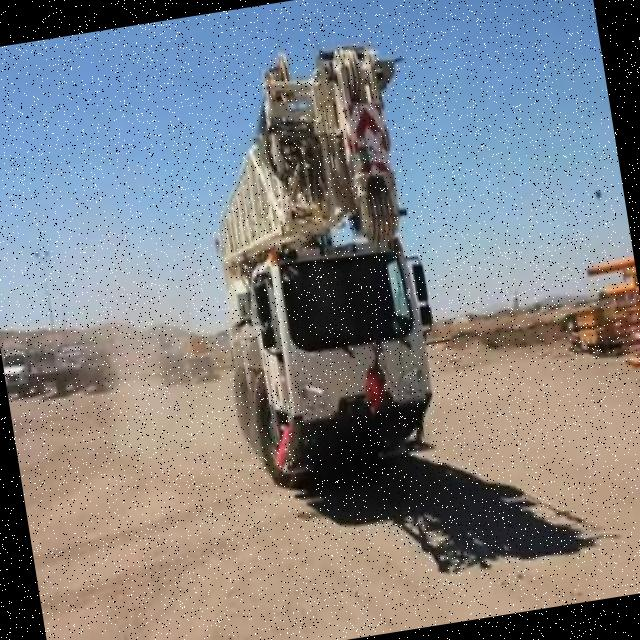Mobile Crane: (180, 36, 452, 489)
